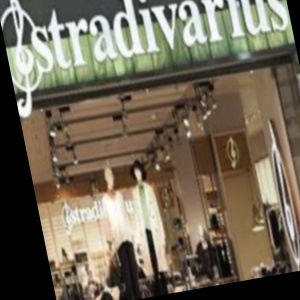stradivarius: (103, 32, 300, 244), (72, 86, 132, 300)
